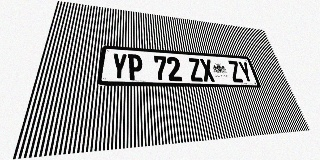2: (166, 56, 182, 81)
7: (153, 56, 169, 81)
P: (127, 54, 143, 80)
X: (199, 59, 216, 82)
Y: (111, 53, 127, 80), (237, 61, 254, 83)
Z: (187, 58, 204, 82), (227, 60, 244, 82)
